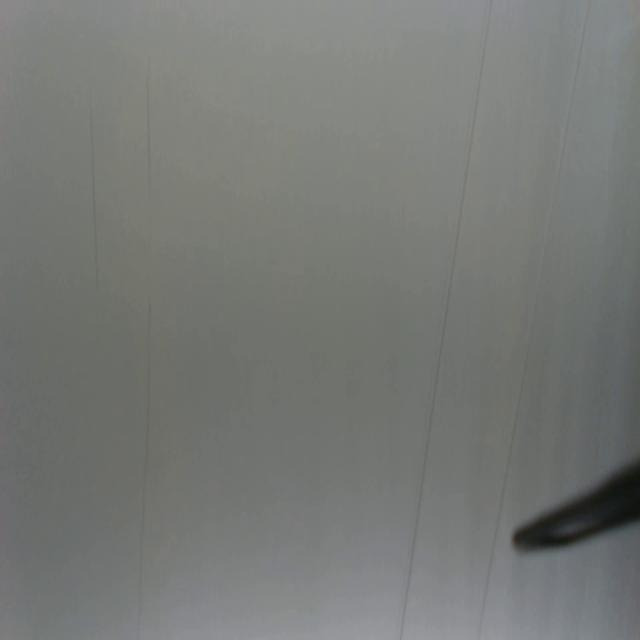crease: (397, 0, 498, 638), (512, 0, 592, 444), (135, 64, 154, 636), (475, 453, 512, 640), (88, 94, 100, 297)
